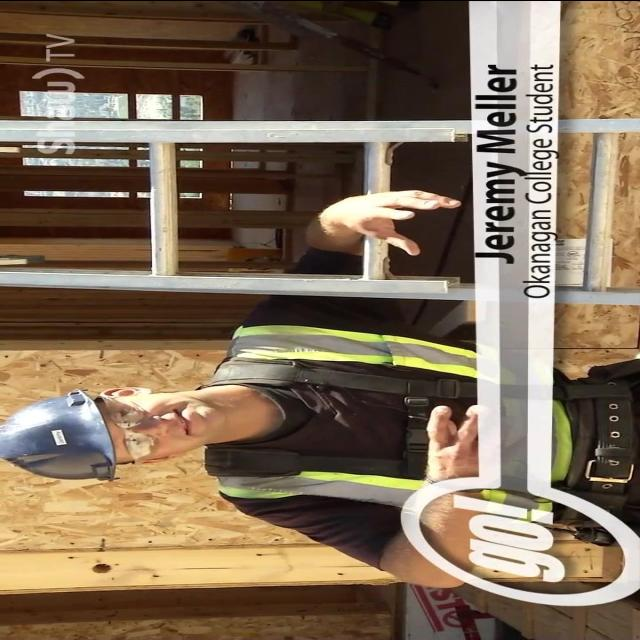helmet: (4, 380, 117, 502)
jacket: (186, 314, 602, 510)
